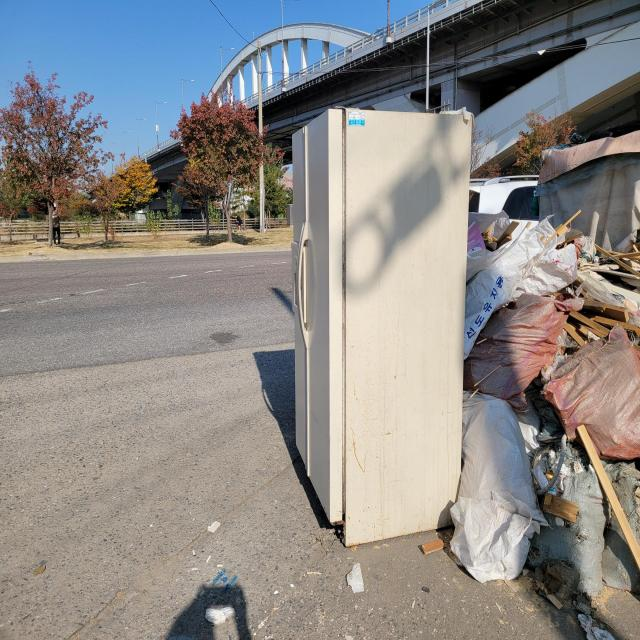refrigerator: (286, 101, 475, 547)
